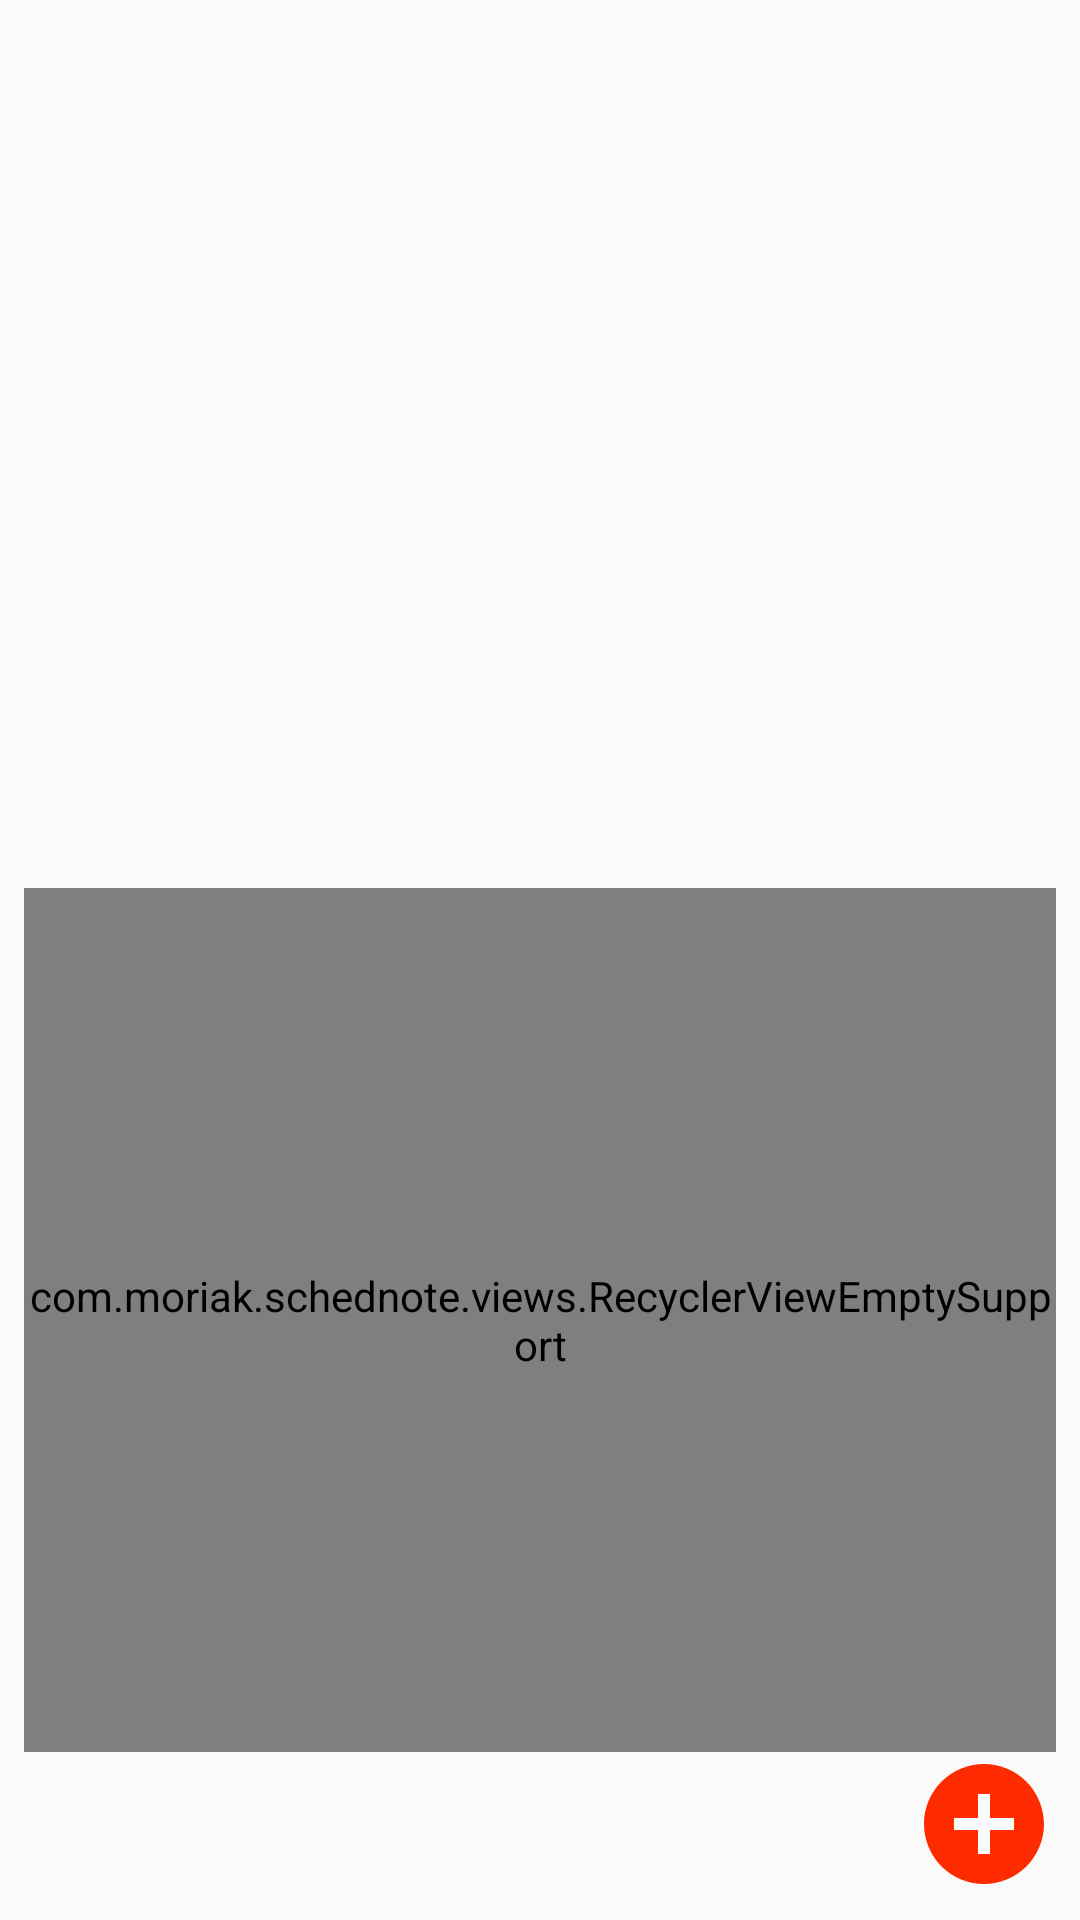

Screen size 1080px x 1920px. Icon name, then its center in pixels as (x=x, y=y):
Insert: (x=984, y=1824)
